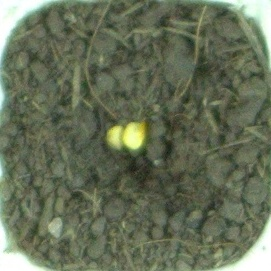chilli seed: (122, 120, 149, 152), (102, 122, 130, 150)
